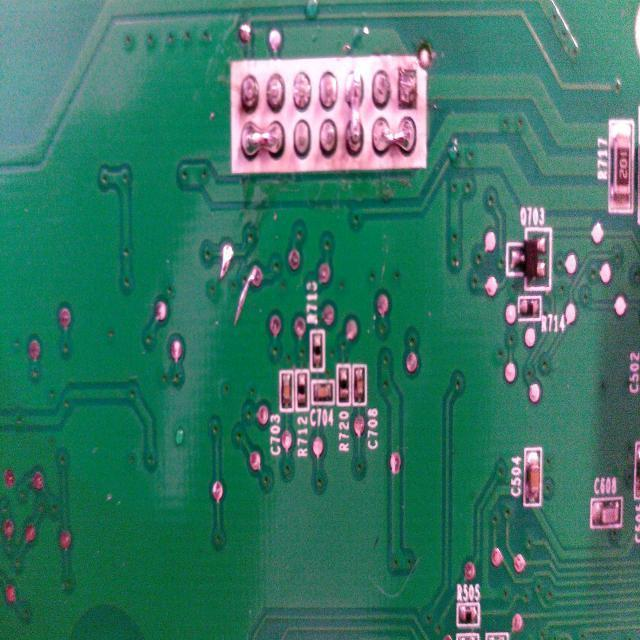Soldering shorted: (372, 112, 420, 160), (344, 68, 366, 160), (242, 120, 285, 160)
